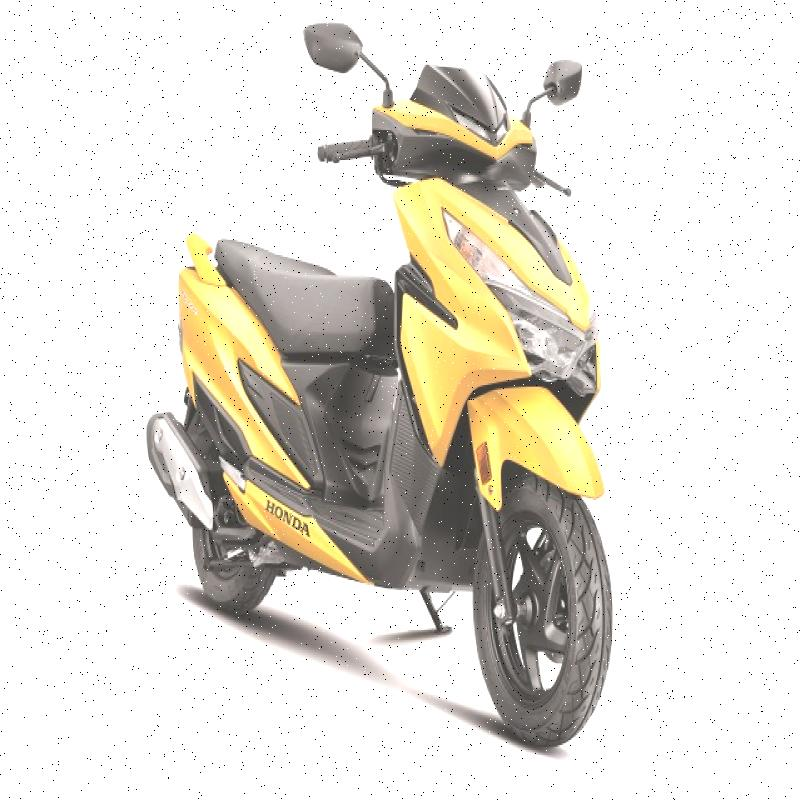bike: (108, 9, 654, 790)
